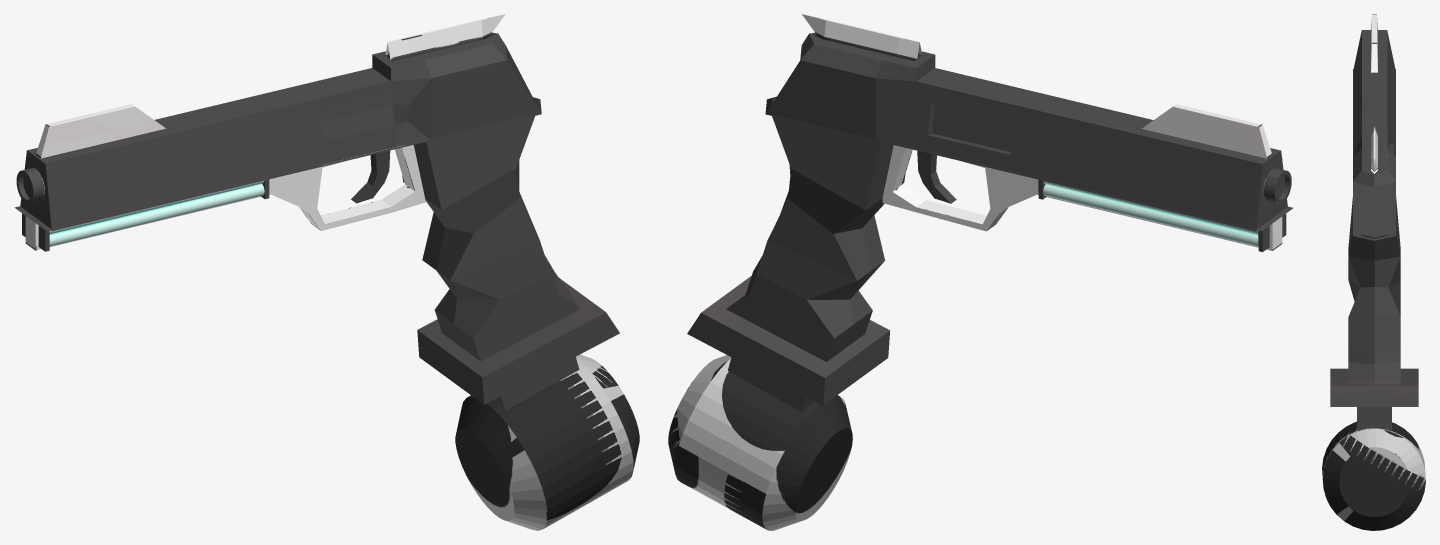
The model's file is pistol.fbx.
The picture shows the model from 3 angles, left to right: view 1: azimuth 30°, elevation 25°; view 2: azimuth 150°, elevation 25°; view 3: azimuth 270°, elevation 25°; orthographic projection. The views are drawn at different scales.
Visible parts, largest first — view 1: Slide, Body, Drum, TriggerGaurd, FrontSight, Tubing, BackSight, Trigger; view 2: Slide, Body, Drum, TriggerGaurd, FrontSight, Tubing, BackSight, Trigger; view 3: Body, Drum, Slide, FrontSight, BackSight.
Boxes of the visible parts, x1,y1,x2,y2 form: Slide: (16, 32, 541, 230); Body: (14, 98, 619, 410); Drum: (455, 354, 639, 530); TriggerGaurd: (25, 145, 425, 250); FrontSight: (35, 104, 165, 158); Tubing: (49, 180, 264, 246); BackSight: (385, 14, 505, 59); Trigger: (351, 150, 390, 203); Slide: (765, 32, 1291, 231); Body: (687, 98, 1292, 412); Drum: (668, 355, 852, 530); TriggerGaurd: (881, 145, 1282, 250); FrontSight: (1142, 104, 1272, 158); Tubing: (1043, 181, 1258, 246); BackSight: (802, 14, 922, 59); Trigger: (917, 150, 956, 203); Body: (1330, 69, 1418, 431); Drum: (1322, 421, 1425, 530); Slide: (1353, 30, 1395, 240); FrontSight: (1371, 14, 1377, 72); BackSight: (1371, 127, 1377, 171).
Bounding box in the file's own units: 454 × 374 × 101.
Materials: 4 (4 with a texture image).
